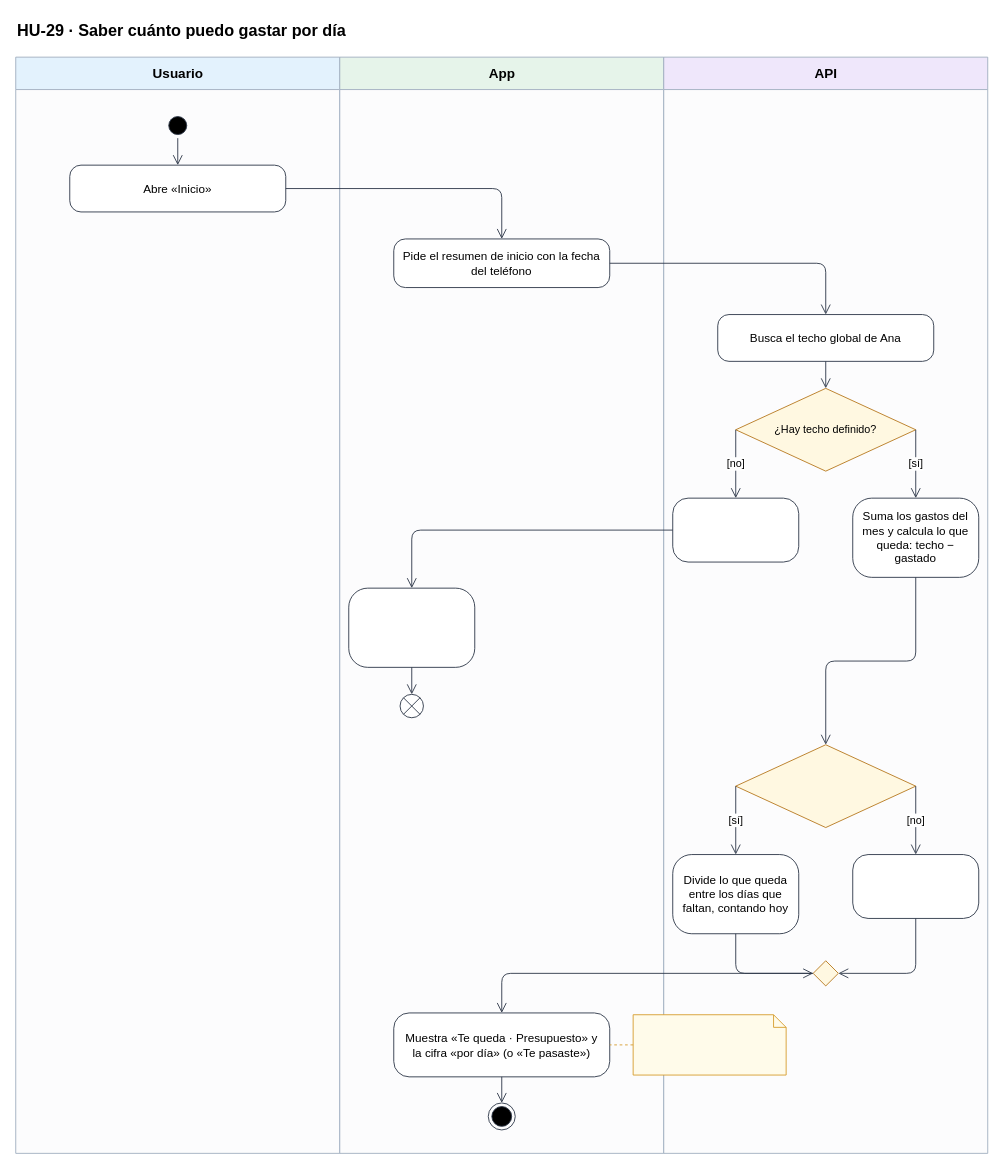
This 1004x1169 diagram has some shape labels left out. Each missing label, with the centre of its shape:
"Escenario: (3.000.000 − 1.500.000) ÷ 10 días = 150.000 por día (RN‑28)" belongs at [709,1044].
"No da cifra diaria: Ana ya pasó el techo" belongs at [915,886].
"No muestra cifra diaria y ofrece «Ponerle un techo al mes»" belongs at [411,627].
"Responde sin bloque de presupuesto" belongs at [735,529].
"¿Todavía queda dinero?" belongs at [825,786].
